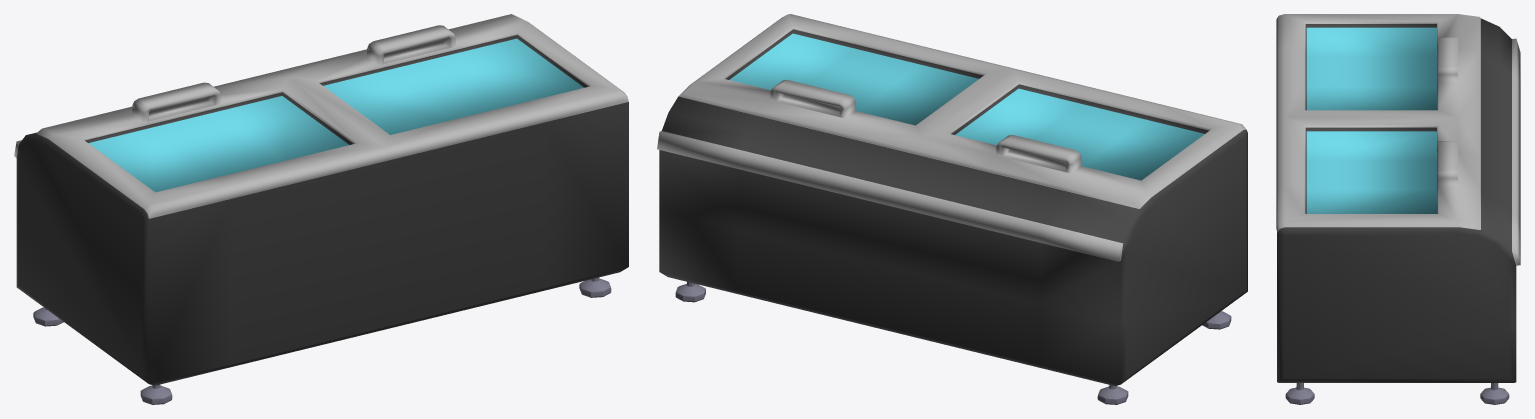
File: freezer.glb
The picture shows the model from 3 angles, left to right: view 1: azimuth 30°, elevation 25°; view 2: azimuth 150°, elevation 25°; view 3: azimuth 270°, elevation 25°; orthographic projection. The views are drawn at different scales.
Parts seen in each view (by area): view 1: Cube; view 2: Cube; view 3: Cube, nóżki1.001, nóżki1.003.
Boxes of the visible parts, x1=… form: Cube: x1=14, y1=14, x2=628, y2=385; Cube: x1=657, y1=14, x2=1247, y2=386; Cube: x1=1276, y1=14, x2=1520, y2=382; nóżki1.001: x1=1480, y1=383, x2=1509, y2=404; nóżki1.003: x1=1285, y1=383, x2=1314, y2=404.
Size of the model in its own units: 2.09 by 0.9045 by 1.01.
